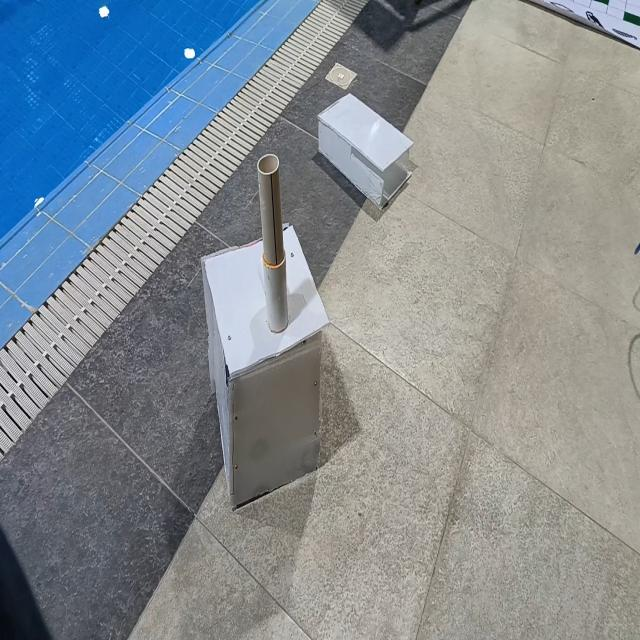Cube: (199, 221, 330, 510)
Cuboid: (317, 90, 414, 210)
